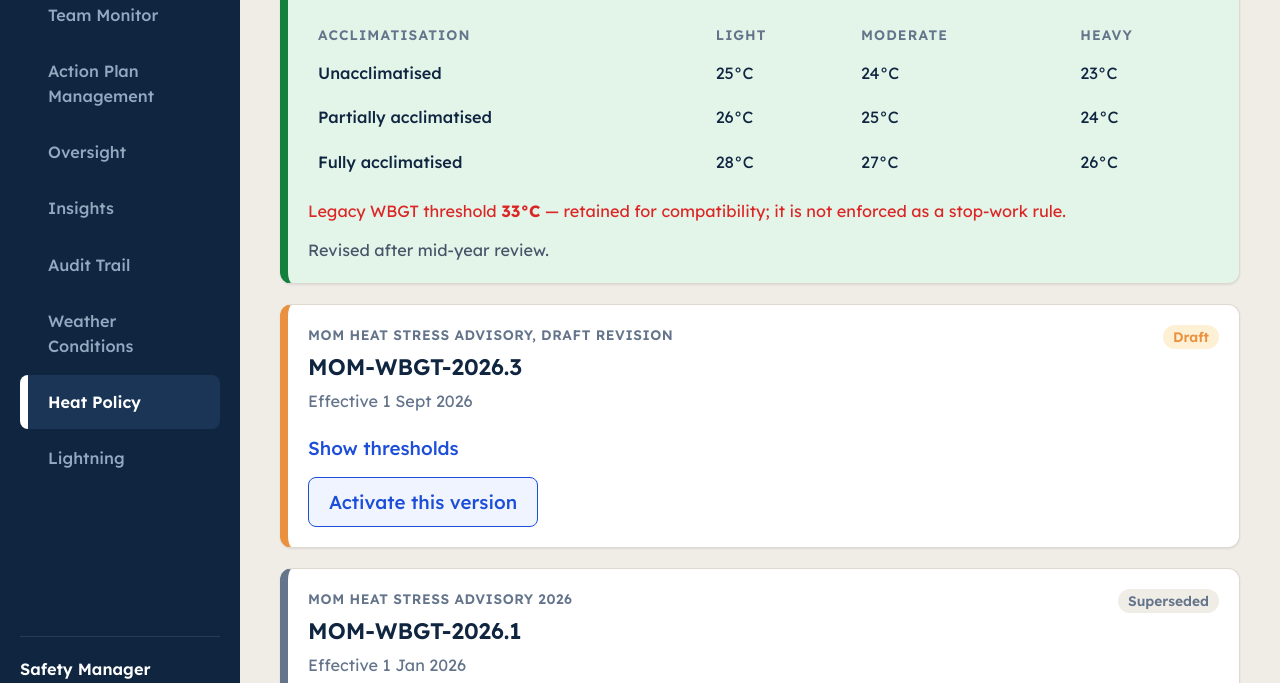
PolicyVersionList › names the version being superseded before activating, and lets a safety manager back out
The width and height of the screenshot is (1280, 683).
(page scrolled)
Click the button "Activate this version": (423, 502) x1=308 y1=477 x2=538 y2=527
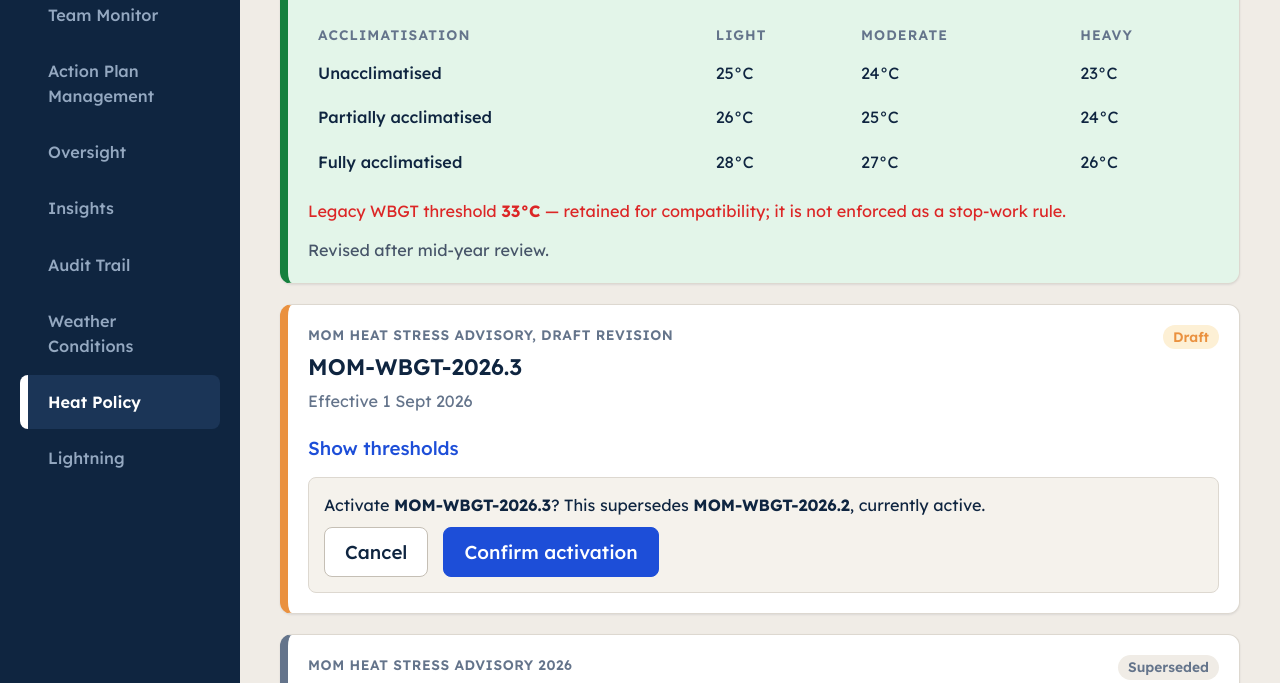
Check: the text "Activate" is shown, box x1=324 y1=495 x2=394 y2=515
Check: the text "MOM-WBGT-2026.3" next to "Activate" is shown, box x1=394 y1=495 x2=551 y2=515
Check: the text "MOM-WBGT-2026.2" is shown, box x1=693 y1=495 x2=850 y2=515
Click the button "Cancel": (376, 552) x1=324 y1=527 x2=428 y2=577
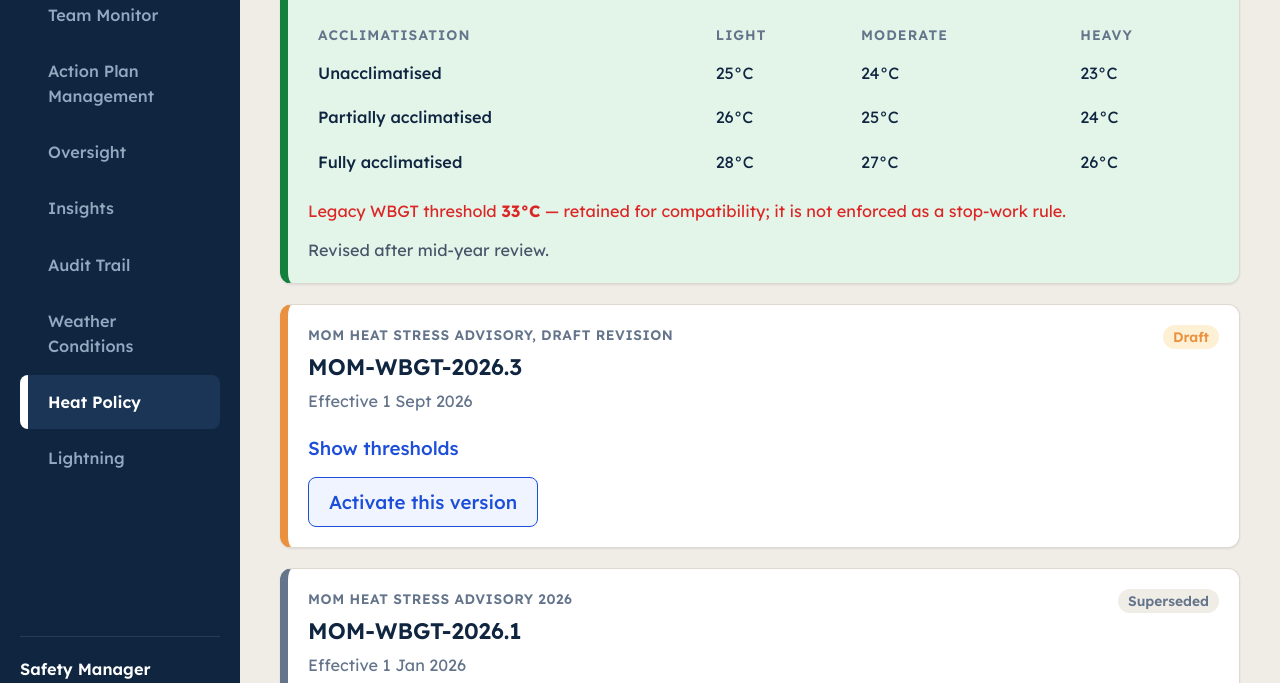
Check: the button "Confirm activation" is gone
Check: the button "Activate this version" is shown, box x1=308 y1=477 x2=538 y2=527
